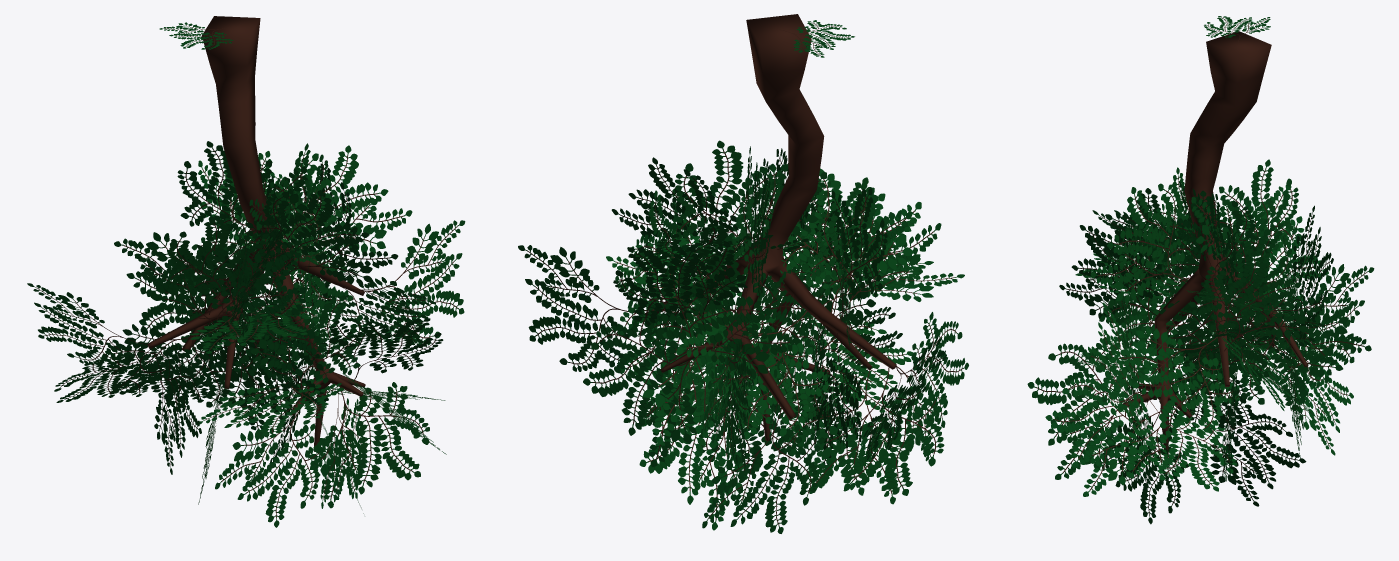
The model's file is Oak_Tree.fbx.
3 views of the same model, side by side, from view 1: azimuth 30°, elevation 25°; view 2: azimuth 150°, elevation 25°; view 3: azimuth 270°, elevation 25° (orthographic). The views are drawn at different scales.
Parts seen in each view (by area): view 1: Oak_Tree, Oak_Tree|Oak_Leaf|Dupli|38, Oak_Tree|Oak_Leaf|Dupli|3, Oak_Tree|Oak_Leaf|Dupli|34, Oak_Tree|Oak_Leaf|Dupli|20, Oak_Tree|Oak_Leaf|Dupli|26, Oak_Tree|Oak_Leaf|Dupli|4, Oak_Tree|Oak_Leaf|Dupli|19, Oak_Tree|Oak_Leaf|Dupli|14, Oak_Tree|Oak_Leaf|Dupli|41, Oak_Tree|Oak_Leaf|Dupli|36, Oak_Tree|Oak_Leaf|Dupli|18 (+25 smaller); view 2: Oak_Tree, Oak_Tree|Oak_Leaf|Dupli|47, Oak_Tree|Oak_Leaf|Dupli|49, Oak_Tree|Oak_Leaf|Dupli|21, Oak_Tree|Oak_Leaf|Dupli|4, Oak_Tree|Oak_Leaf|Dupli|43, Oak_Tree|Oak_Leaf|Dupli|, Oak_Tree|Oak_Leaf|Dupli|46, Oak_Tree|Oak_Leaf|Dupli|13, Oak_Tree|Oak_Leaf|Dupli|24, Oak_Tree|Oak_Leaf|Dupli|17, Oak_Tree|Oak_Leaf|Dupli|37 (+28 smaller); view 3: Oak_Tree, Oak_Tree|Oak_Leaf|Dupli|27, Oak_Tree|Oak_Leaf|Dupli|30, Oak_Tree|Oak_Leaf|Dupli|3, Oak_Tree|Oak_Leaf|Dupli|32, Oak_Tree|Oak_Leaf|Dupli|41, Oak_Tree|Oak_Leaf|Dupli|35, Oak_Tree|Oak_Leaf|Dupli|40, Oak_Tree|Oak_Leaf|Dupli|37, Oak_Tree|Oak_Leaf|Dupli|8, Oak_Tree|Oak_Leaf|Dupli|44, Oak_Tree|Oak_Leaf|Dupli|1 (+28 smaller).
Boxes of the visible parts, x1,y1,x2,y2 form: Oak_Tree: [147, 16, 365, 451]; Oak_Tree|Oak_Leaf|Dupli|38: [308, 382, 429, 508]; Oak_Tree|Oak_Leaf|Dupli|3: [245, 190, 398, 286]; Oak_Tree|Oak_Leaf|Dupli|34: [215, 407, 330, 527]; Oak_Tree|Oak_Leaf|Dupli|20: [199, 251, 324, 382]; Oak_Tree|Oak_Leaf|Dupli|26: [274, 145, 412, 255]; Oak_Tree|Oak_Leaf|Dupli|4: [365, 220, 465, 345]; Oak_Tree|Oak_Leaf|Dupli|19: [160, 216, 301, 314]; Oak_Tree|Oak_Leaf|Dupli|14: [137, 232, 269, 346]; Oak_Tree|Oak_Leaf|Dupli|41: [177, 141, 307, 249]; Oak_Tree|Oak_Leaf|Dupli|36: [250, 295, 367, 403]; Oak_Tree|Oak_Leaf|Dupli|18: [101, 322, 243, 412]; Oak_Tree: [645, 14, 895, 440]; Oak_Tree|Oak_Leaf|Dupli|47: [583, 308, 696, 467]; Oak_Tree|Oak_Leaf|Dupli|49: [640, 251, 800, 379]; Oak_Tree|Oak_Leaf|Dupli|21: [809, 367, 947, 495]; Oak_Tree|Oak_Leaf|Dupli|4: [518, 245, 635, 371]; Oak_Tree|Oak_Leaf|Dupli|43: [702, 408, 825, 533]; Oak_Tree|Oak_Leaf|Dupli|: [676, 309, 829, 439]; Oak_Tree|Oak_Leaf|Dupli|46: [613, 242, 747, 336]; Oak_Tree|Oak_Leaf|Dupli|13: [801, 181, 941, 319]; Oak_Tree|Oak_Leaf|Dupli|24: [668, 140, 826, 261]; Oak_Tree|Oak_Leaf|Dupli|17: [780, 168, 921, 312]; Oak_Tree|Oak_Leaf|Dupli|37: [639, 365, 747, 530]; Oak_Tree: [1123, 31, 1307, 460]; Oak_Tree|Oak_Leaf|Dupli|27: [1110, 325, 1240, 437]; Oak_Tree|Oak_Leaf|Dupli|30: [1188, 250, 1329, 351]; Oak_Tree|Oak_Leaf|Dupli|3: [1090, 183, 1194, 305]; Oak_Tree|Oak_Leaf|Dupli|32: [1045, 368, 1161, 496]; Oak_Tree|Oak_Leaf|Dupli|41: [1191, 159, 1301, 290]; Oak_Tree|Oak_Leaf|Dupli|35: [1027, 337, 1147, 479]; Oak_Tree|Oak_Leaf|Dupli|40: [1228, 310, 1371, 411]; Oak_Tree|Oak_Leaf|Dupli|37: [1188, 399, 1306, 506]; Oak_Tree|Oak_Leaf|Dupli|8: [1120, 416, 1236, 491]; Oak_Tree|Oak_Leaf|Dupli|44: [1280, 264, 1374, 388]; Oak_Tree|Oak_Leaf|Dupli|1: [1059, 226, 1164, 318].
Bounding box in the file's own units: 695 × 746 × 537.
Materials: 2 (1 with a texture image).
